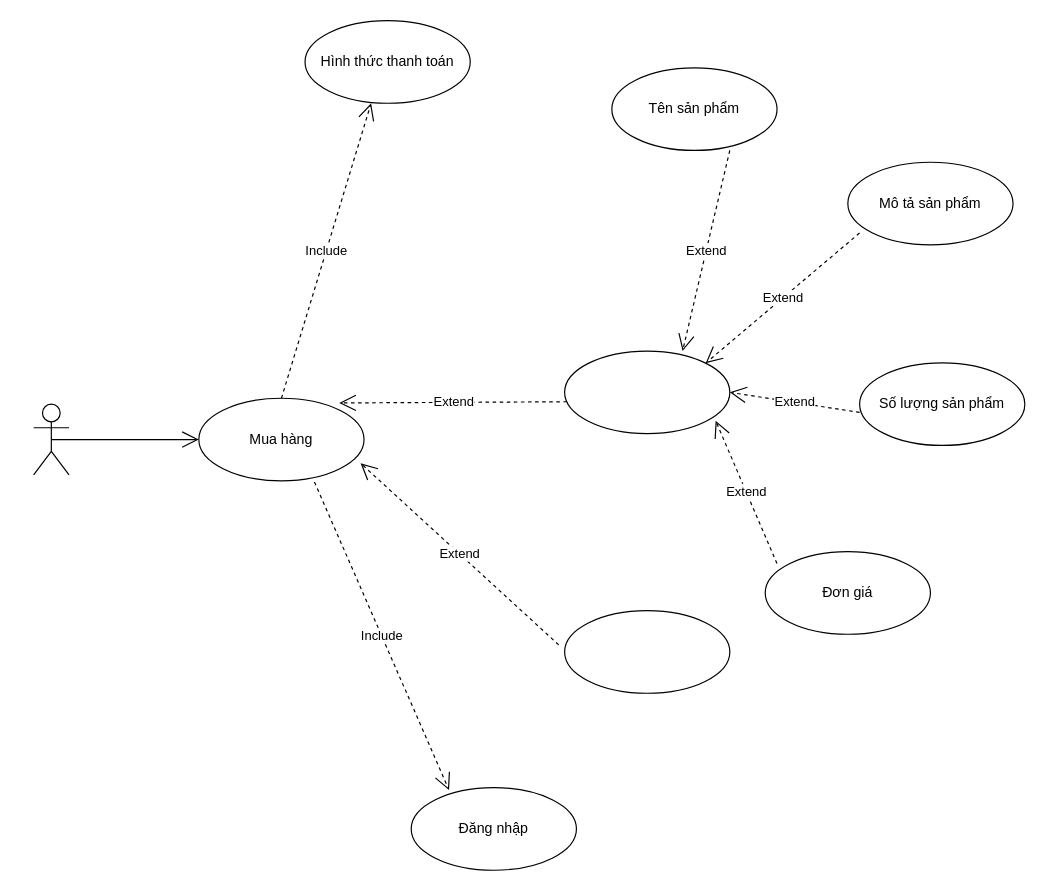
This 1045x891 diagram has some shape labels left out. Each missing label, with the centre of its shape:
"Customer" belongs at pixel 50 439.
"Thông tin sản phẩm" belongs at pixel 646 392.
"Tổng tiền" belongs at pixel 646 651.
